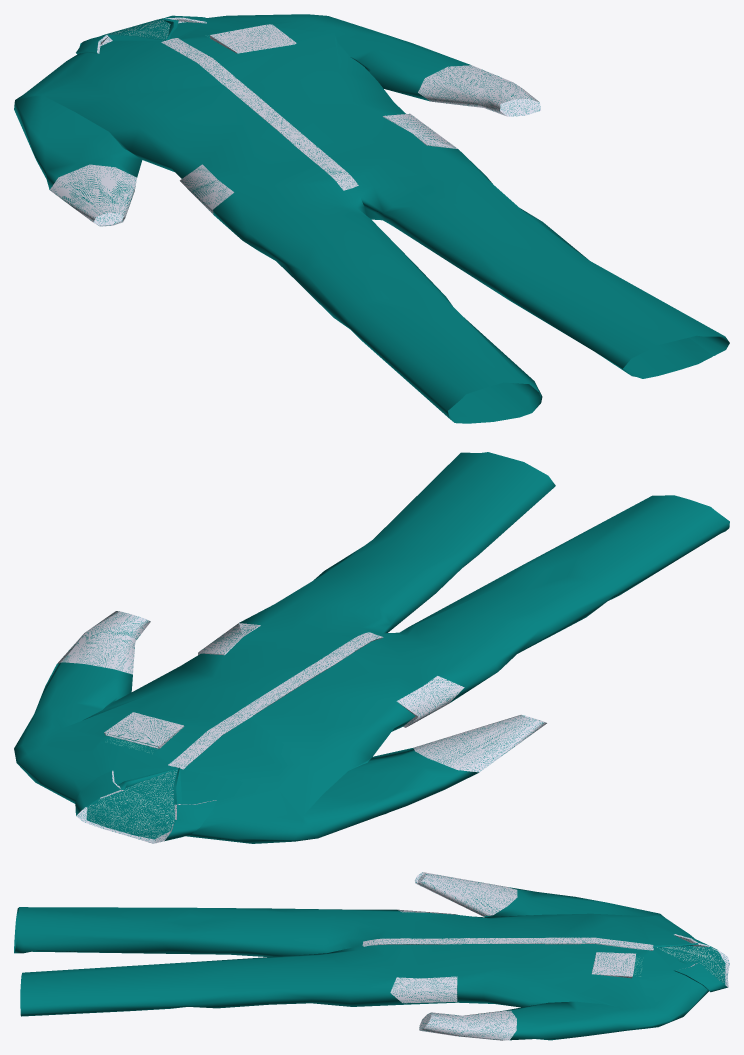
File: overal.fbx
3 views of the same model, one above another, from view 1: azimuth 30°, elevation 25°; view 2: azimuth 150°, elevation 25°; view 3: azimuth 270°, elevation 25° (orthographic). The views are drawn at different scales.
Parts seen in each view (by area): view 1: group_11.015; view 2: group_11.015; view 3: group_11.015.
Boxes of the visible parts, <box> form: group_11.015: <box>14,14,729,423</box>; group_11.015: <box>14,452,729,843</box>; group_11.015: <box>14,872,729,1040</box>.
Size of the model in its own units: 1.46 by 0.1693 by 2.68.
